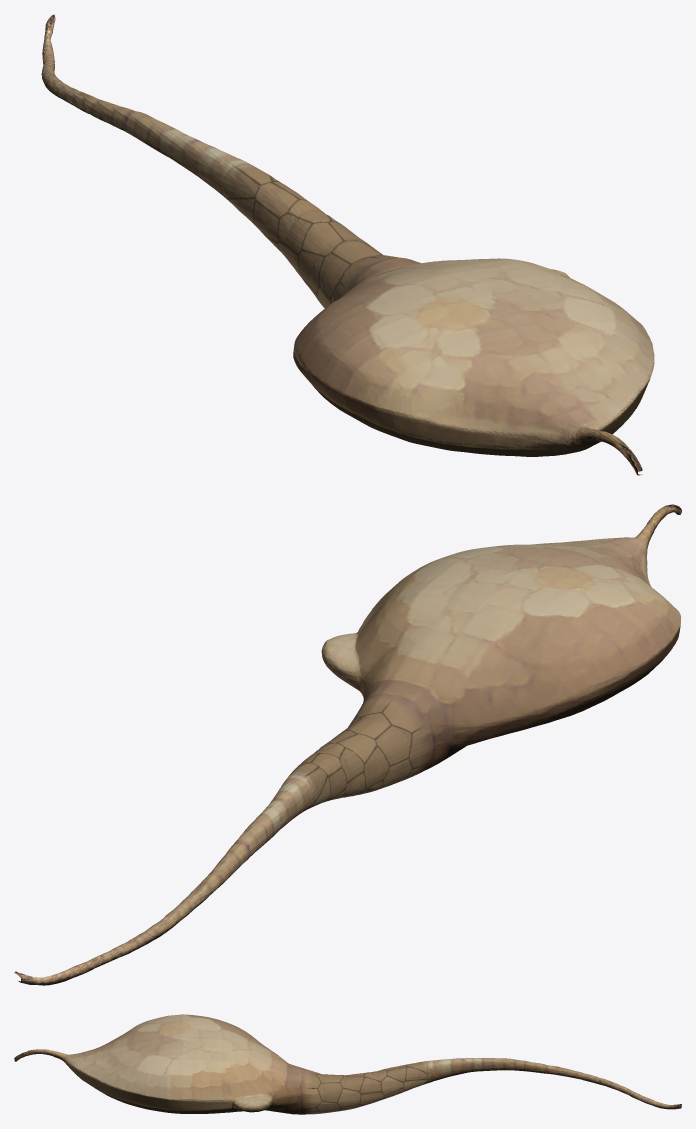
3 views of the same model, one above another, from view 1: azimuth 30°, elevation 25°; view 2: azimuth 150°, elevation 25°; view 3: azimuth 270°, elevation 25° (orthographic). The views are drawn at different scales.
Visible parts, largest first — view 1: world; view 2: world; view 3: world.
Boxes of the visible parts, x1,y1,x2,y2 form: world: (41,14,654,475); world: (14,504,681,985); world: (14,1014,681,1114).
Bounding box in the file's own units: 0.0376 × 0.0158 × 0.14.
1 material, 1 textured.
